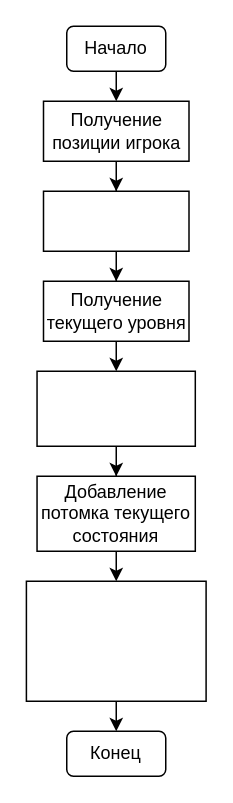
This 233x803 diagram has some shape labels left out. Each missing label, with the centre of its shape:
Получение позиций ящиков: (x=115, y=220)
Создание экземпляра модели: (x=115, y=408)
Установление созданного экземпляра текущим состоянием: (x=115, y=640)
